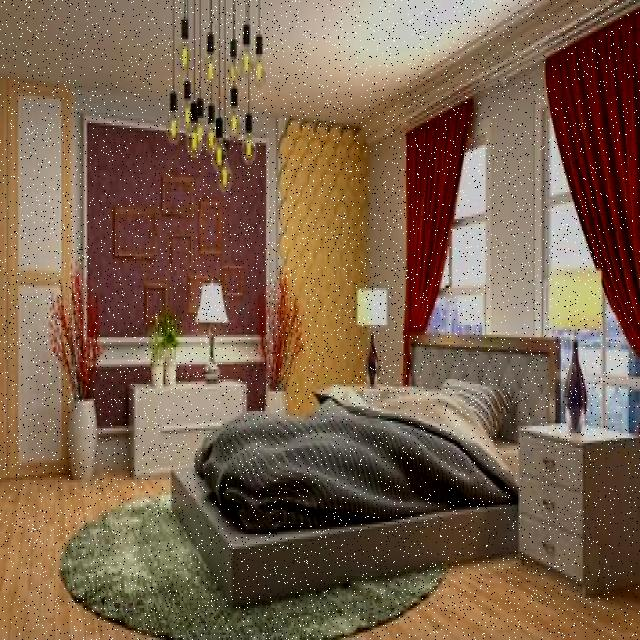bed: (192, 330, 562, 568)
